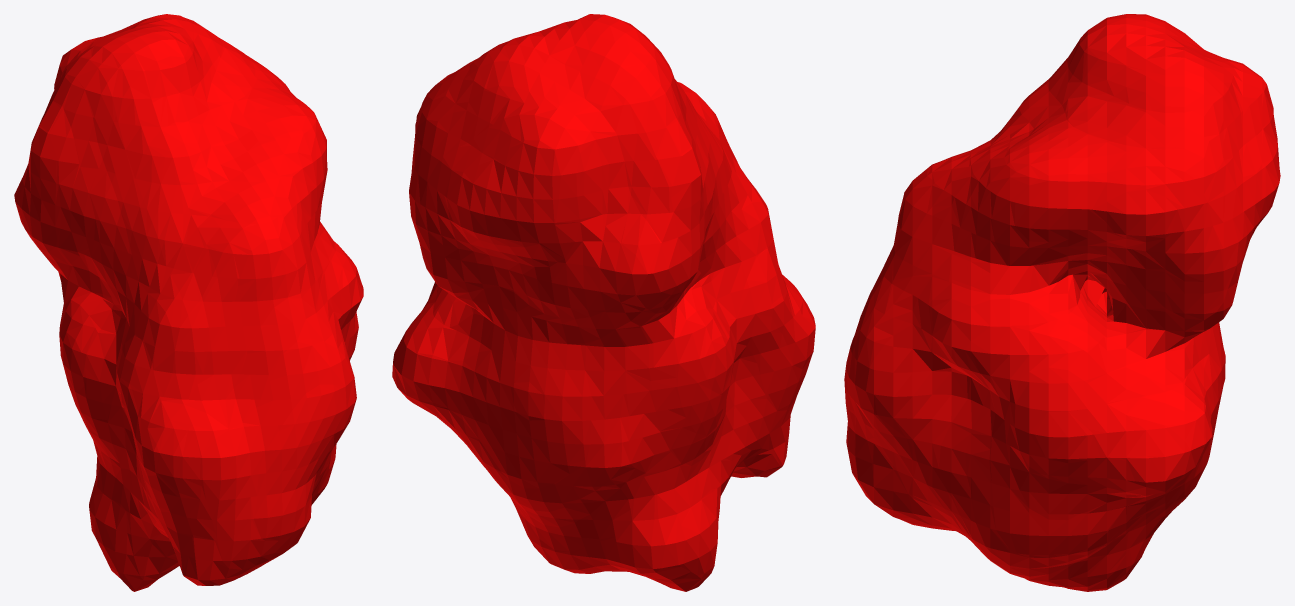
Rendered from yqaB_coarse.dae.
The picture shows the model from 3 angles, left to right: view 1: azimuth 30°, elevation 25°; view 2: azimuth 150°, elevation 25°; view 3: azimuth 270°, elevation 25°; orthographic projection. The views are drawn at different scales.
Visible parts, largest first — view 1: yqaB; view 2: yqaB; view 3: yqaB.
Part boxes in pixels (bbox=[...]): yqaB: bbox=[14, 14, 363, 591]; yqaB: bbox=[392, 14, 815, 591]; yqaB: bbox=[844, 14, 1280, 591].
Bounding box in the file's own units: 33.59 × 61.07 × 43.08.
